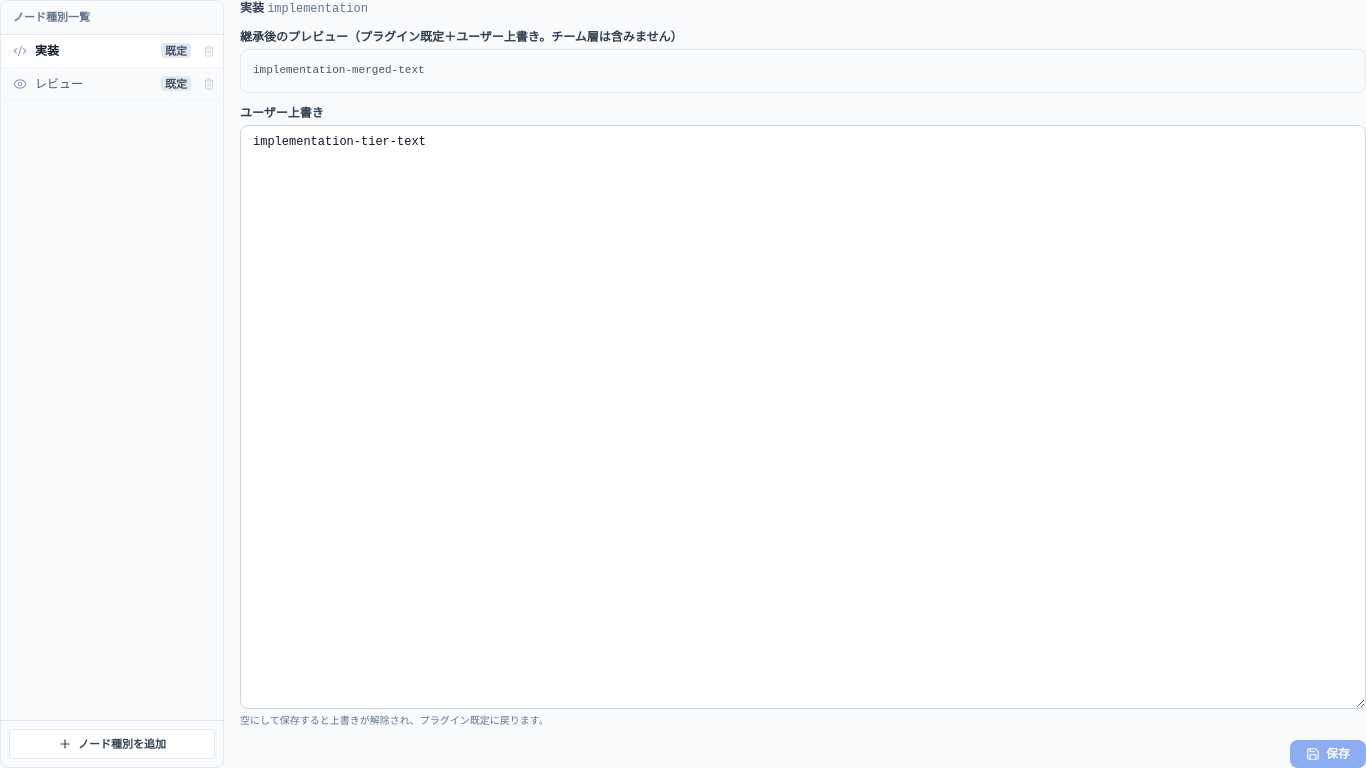
Test: NodeTypesEditor › switching the selection with unsaved edits › switches and clears the relayed dirty flag when the user confirms
Replace the text in the text box showing "implementation-tier-text" with "unsaved edit": (803, 417) [240,125,1365,709]
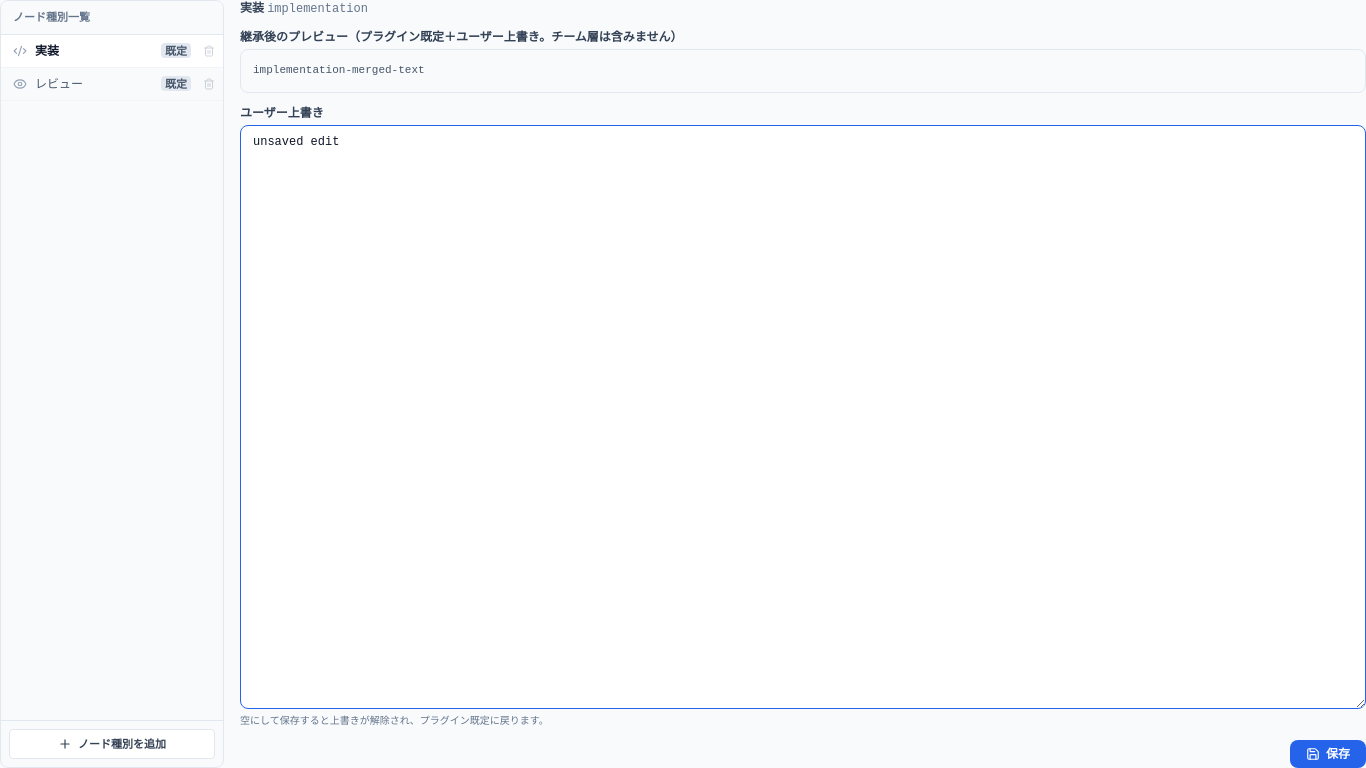
Click the button "レビュー 既定": (98, 84) [1,68,195,100]
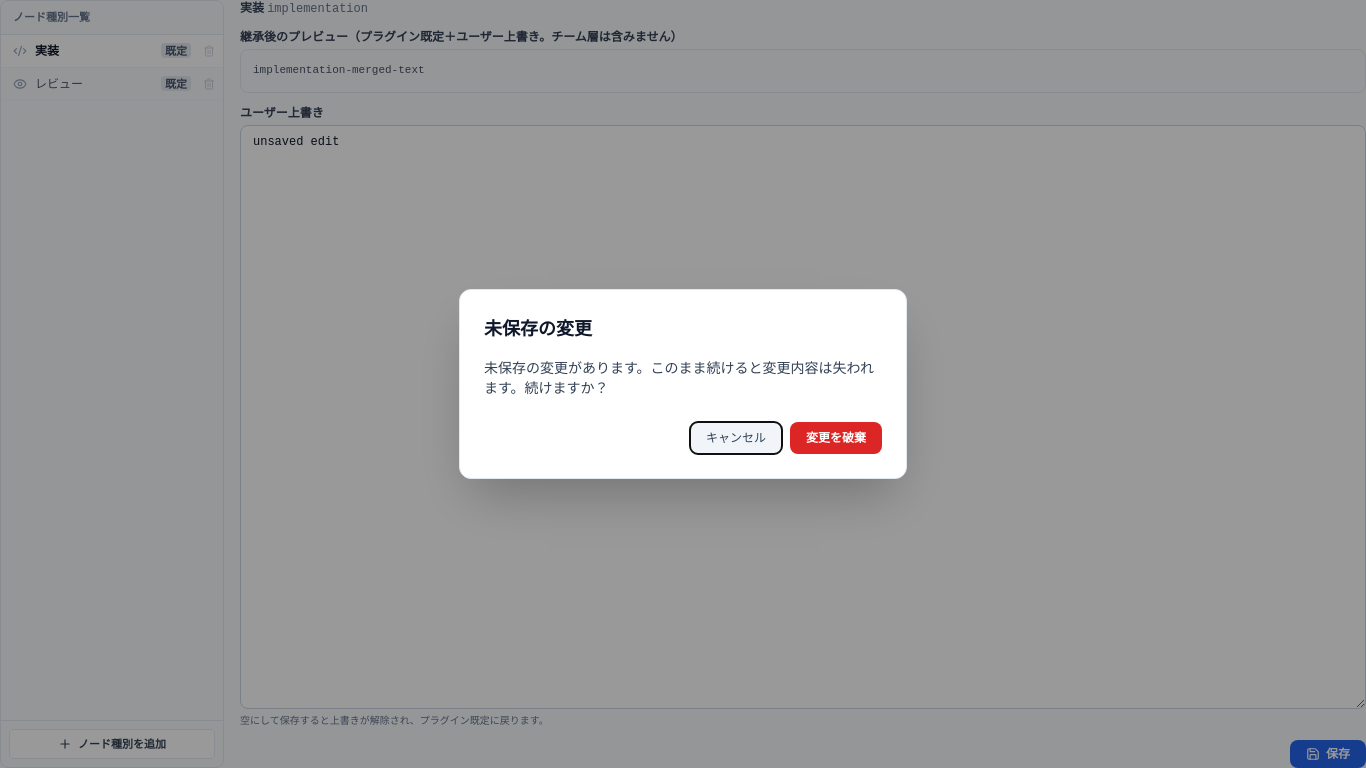
Click the button with test id "node-type-discard-confirm-confirm": (836, 438) [790,422,882,454]
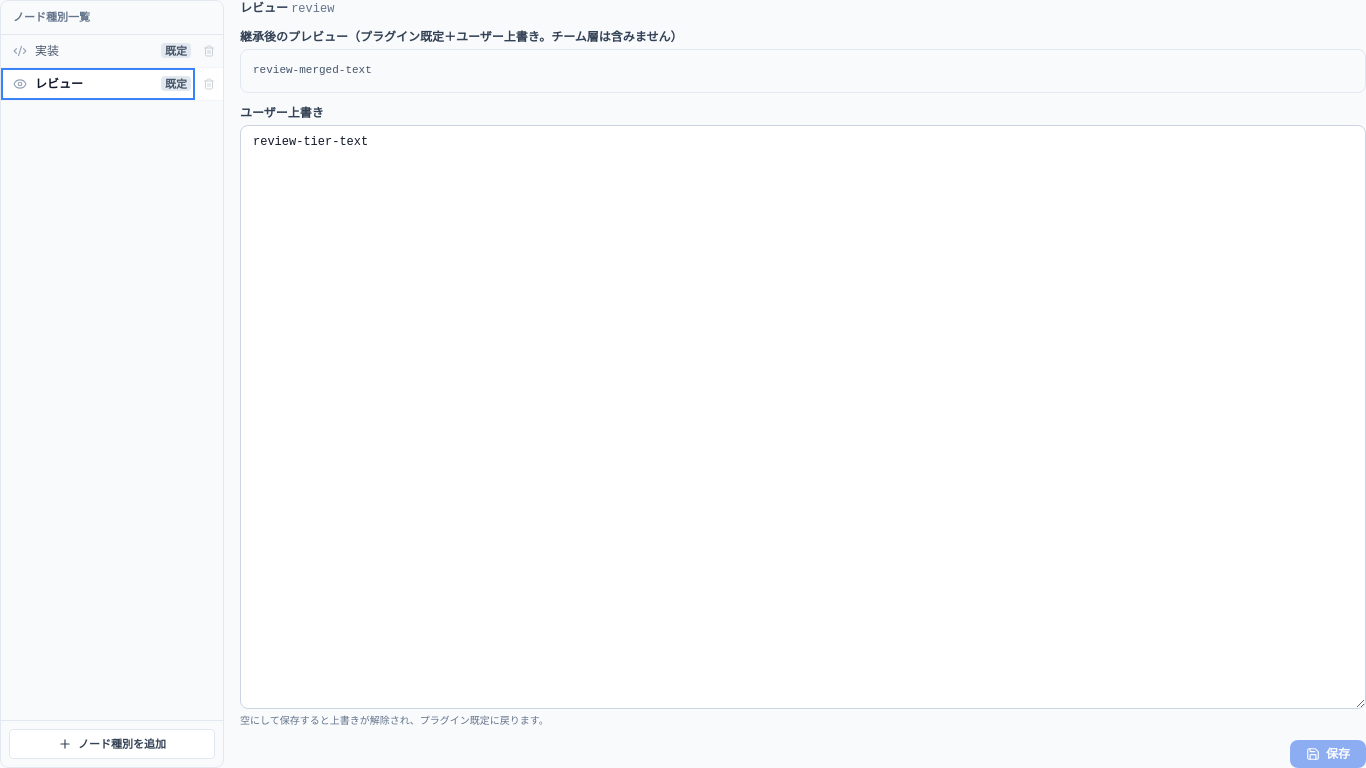
Expected: the dialog with test id "node-type-discard-confirm" is gone
Expected: the text box showing "review-tier-text" is shown
